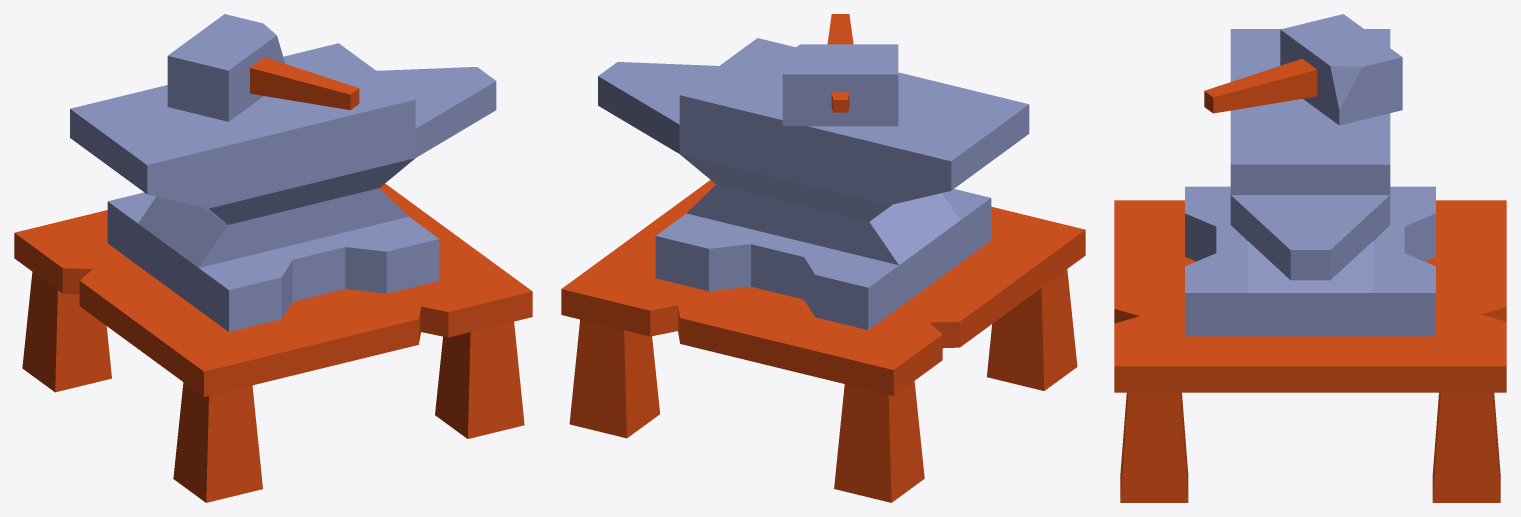
The model's file is workbenchAnvil.obj.
3 views of the same model, side by side, from view 1: azimuth 30°, elevation 25°; view 2: azimuth 150°, elevation 25°; view 3: azimuth 270°, elevation 25° (orthographic). The views are drawn at different scales.
Parts seen in each view (by area): view 1: workbenchAnvil, hammer; view 2: workbenchAnvil, hammer; view 3: workbenchAnvil, hammer.
Boxes of the visible parts, bbox=[...] form: workbenchAnvil: bbox=[14, 43, 532, 502]; hammer: bbox=[167, 14, 359, 121]; workbenchAnvil: bbox=[561, 38, 1085, 502]; hammer: bbox=[782, 14, 898, 126]; workbenchAnvil: bbox=[1114, 29, 1506, 502]; hammer: bbox=[1204, 14, 1402, 125].
Size of the model in its own units: 0.3092 by 0.2745 by 0.2688.
